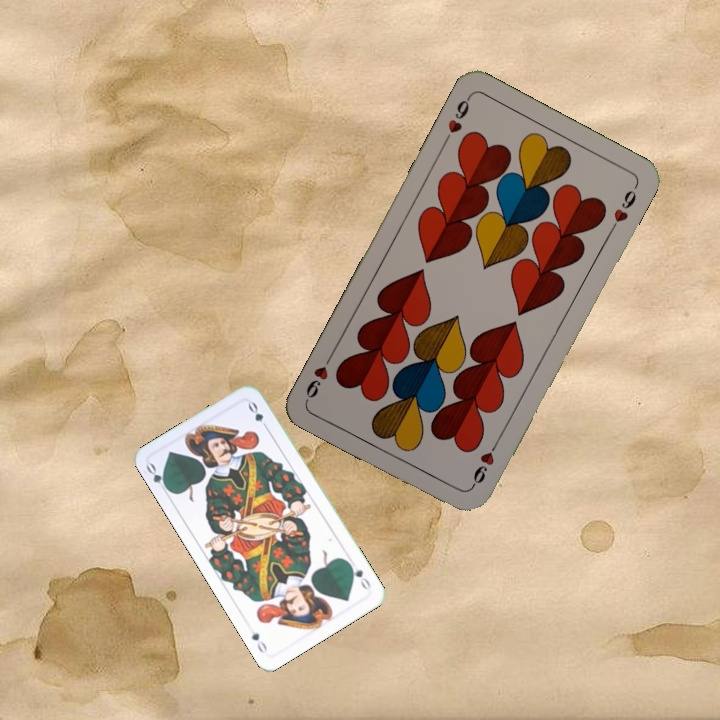GO: (142, 459, 173, 497), (344, 558, 373, 592)
H9: (439, 92, 474, 146), (467, 437, 502, 490)
